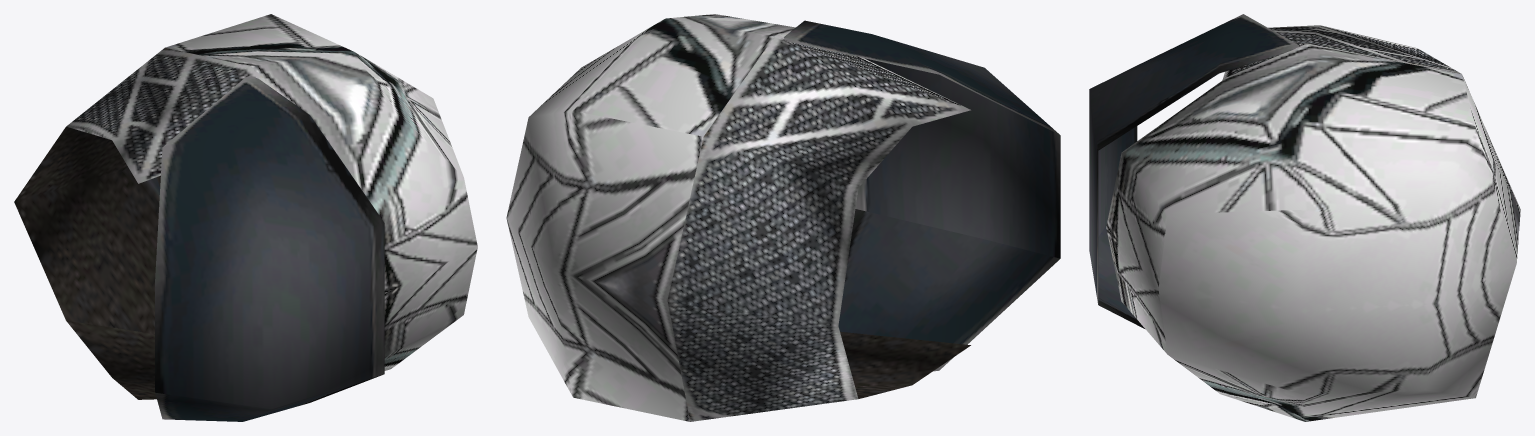
The model's file is Helmet6__EC.glb.
3 renders of one model, left to right at view 1: azimuth 30°, elevation 25°; view 2: azimuth 150°, elevation 25°; view 3: azimuth 270°, elevation 25°, orthographic. The views are drawn at different scales.
Visible parts, largest first — view 1: Helmet6; view 2: Helmet6; view 3: Helmet6.
Boxes of the visible parts, x1,y1,x2,y2 form: Helmet6: (14, 14, 477, 421); Helmet6: (506, 14, 1060, 421); Helmet6: (1089, 14, 1520, 421).
Size of the model in its own units: 13.81 by 11.5 by 13.39.
Materials: 1 (1 with a texture image).
